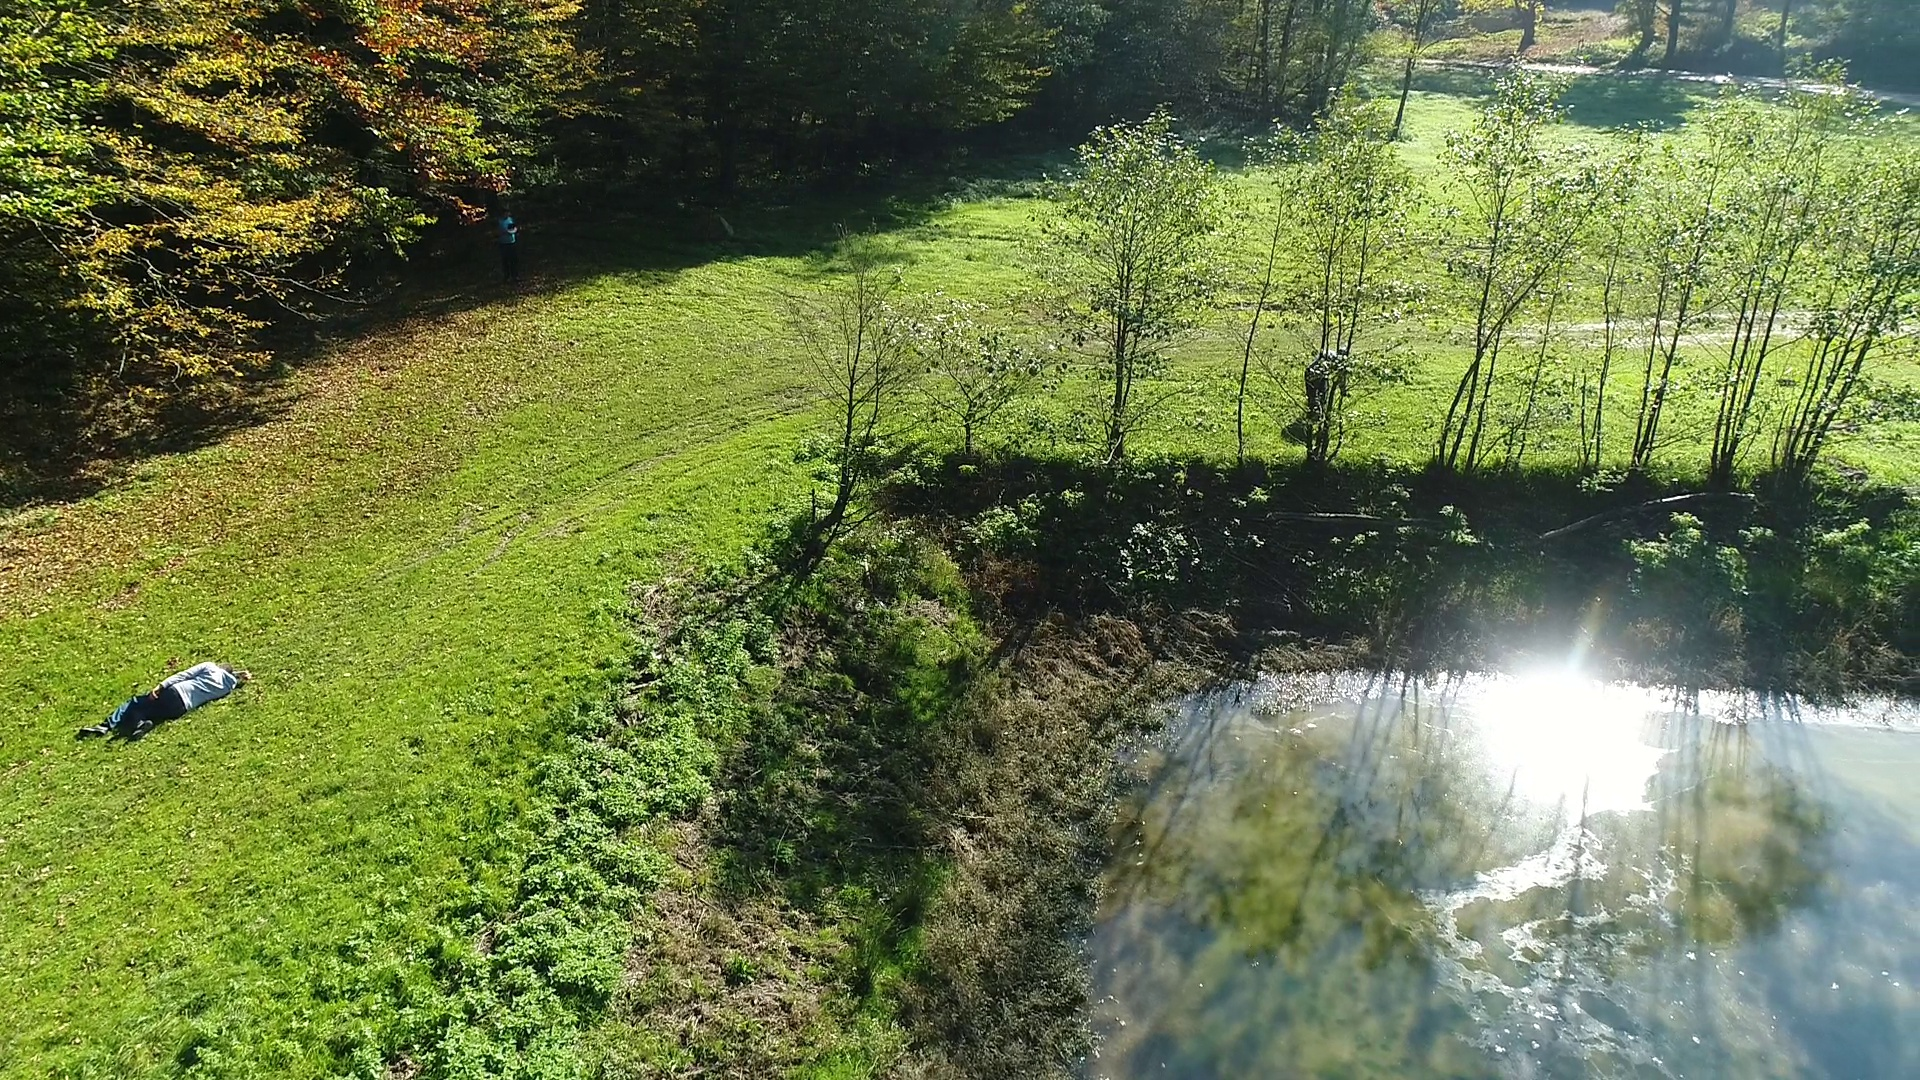not_defined: (1304, 345, 1352, 422)
person: (78, 660, 252, 741), (494, 210, 523, 283)
